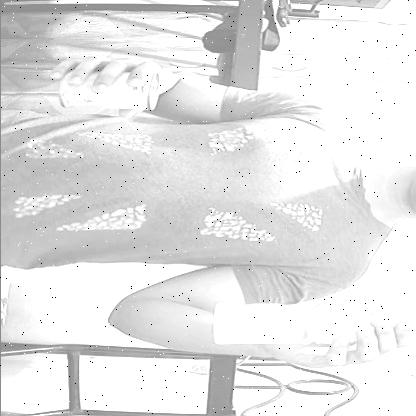Plastic Bottle: (201, 303, 402, 352)
